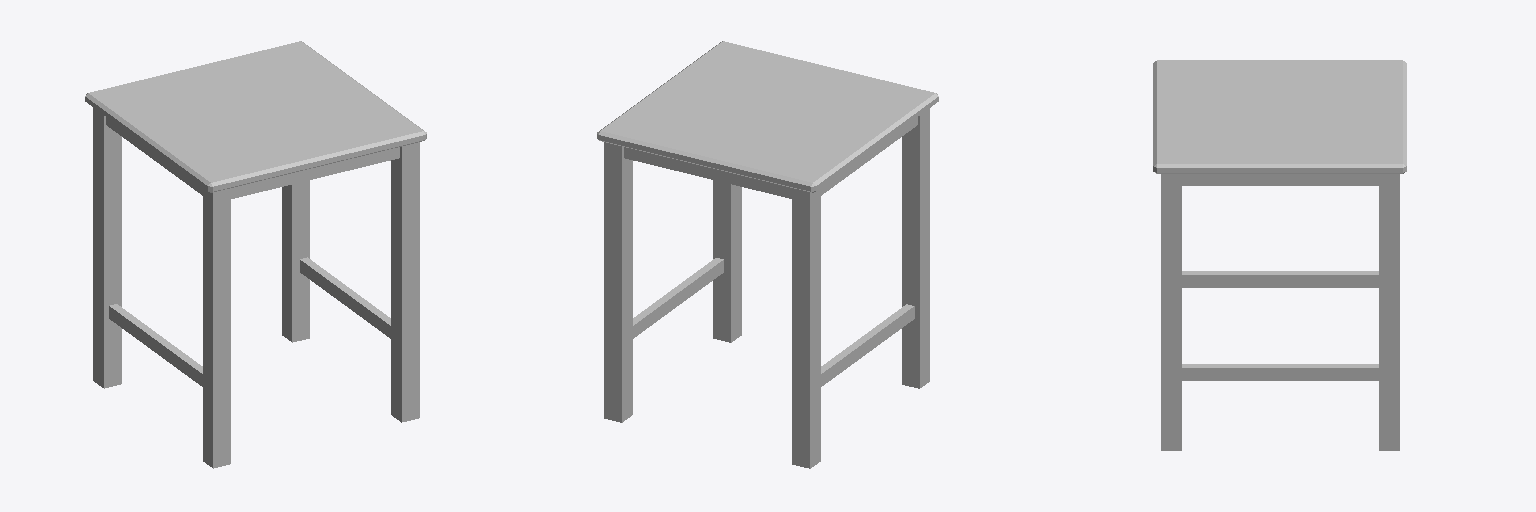
File: nightstand.obj
3 views of the same model, side by side, from view 1: azimuth 30°, elevation 25°; view 2: azimuth 150°, elevation 25°; view 3: azimuth 270°, elevation 25° (orthographic).
Visible parts, largest first — view 1: pCube9; view 2: pCube9; view 3: pCube9.
Part boxes in pixels (left/top/right/bottom): pCube9: left=85, top=41, right=426, bottom=468; pCube9: left=597, top=41, right=938, bottom=468; pCube9: left=1153, top=60, right=1406, bottom=450.
Bounding box in the file's own units: 12.77 × 16.03 × 12.77.